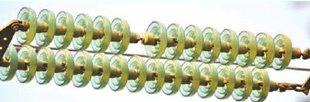gap: (111, 17, 167, 58)
isolator: (1, 6, 293, 102)
